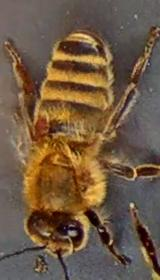varroa_mite: (28, 111, 57, 139)
